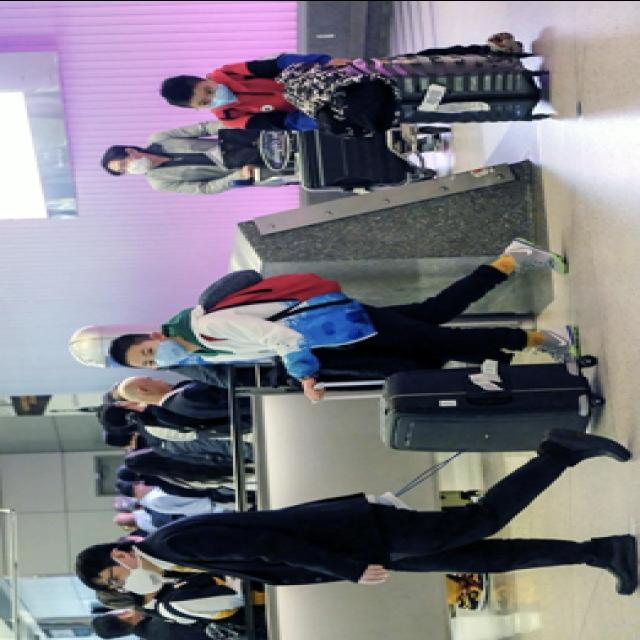mask: (100, 564, 162, 594), (134, 338, 187, 367), (196, 78, 240, 108), (113, 152, 152, 173)
